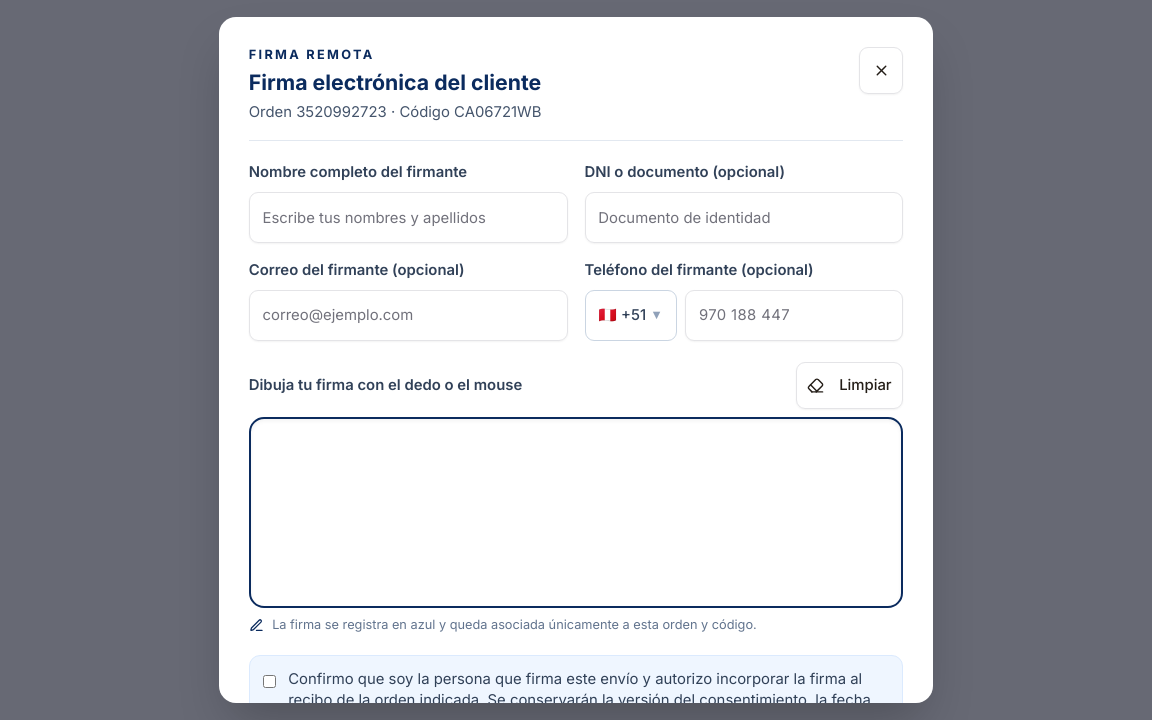
Test: ElectronicSignatureDialog › requires consent and a drawn signature before submitting
The width and height of the screenshot is (1152, 720).
Later steps or results of the test are not shown.
Type "Ana Pérez" into the field labelled "Nombre completo del firmante" at (408, 218), box x1=249 y1=192 x2=568 y2=243
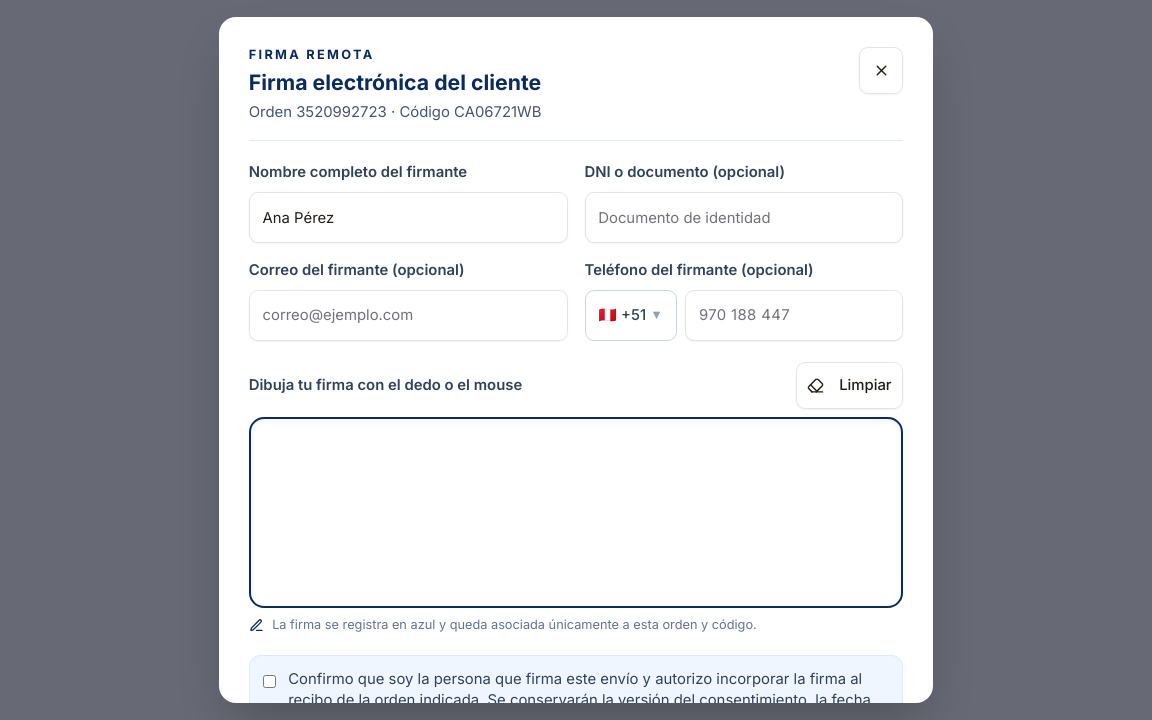
Click the checkbox at (269, 682), box x1=262 y1=673 x2=276 y2=690
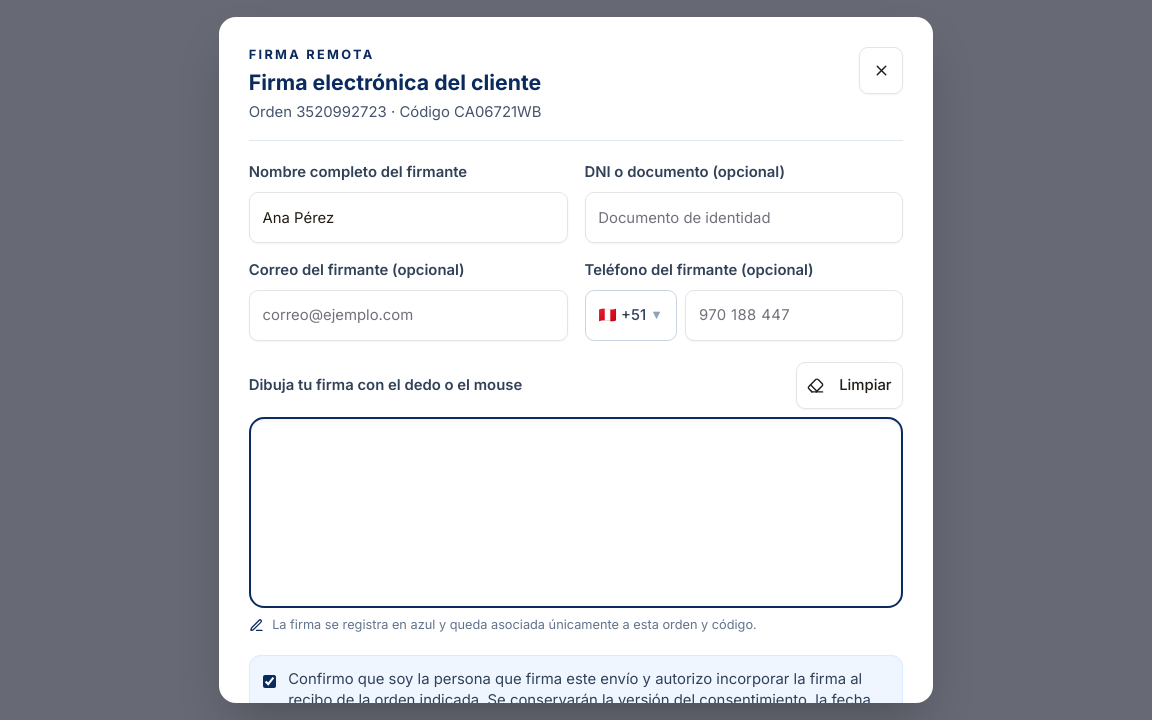
Press the mouse on the drawing named "Área para dibujar la firma electrónica" at (576, 513), box x1=251 y1=420 x2=901 y2=606
(page scrolled)
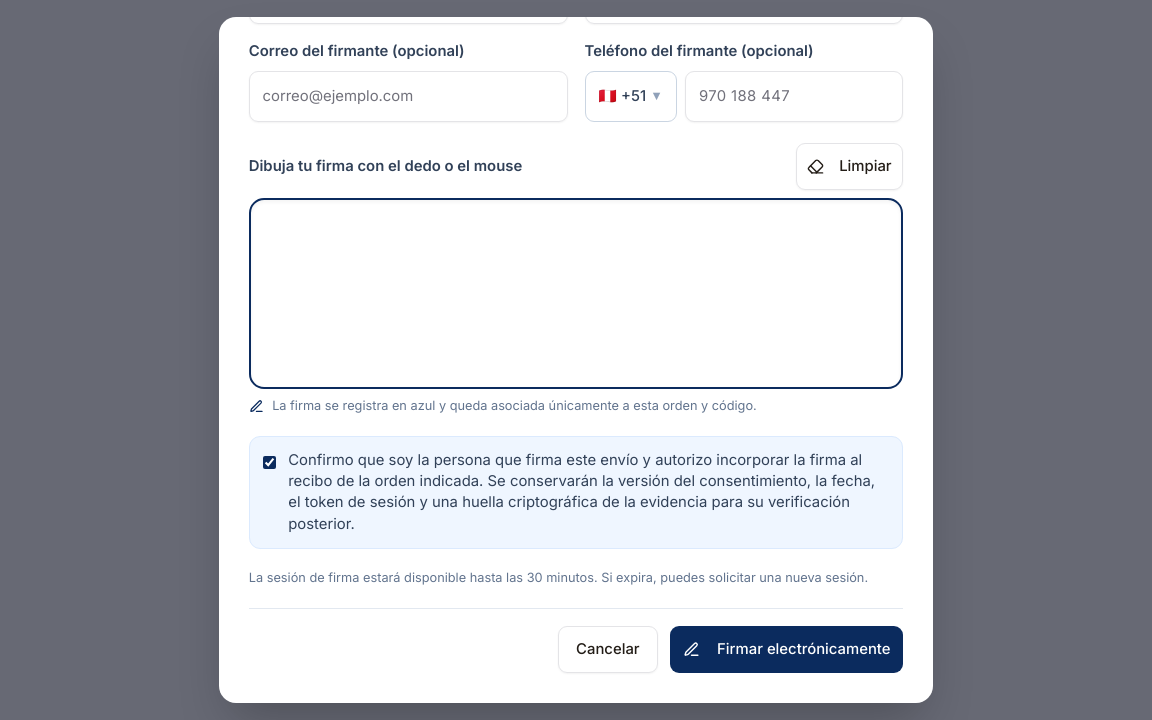
Check: the button "Firmar electrónicamente" is enabled, box x1=670 y1=626 x2=903 y2=673
